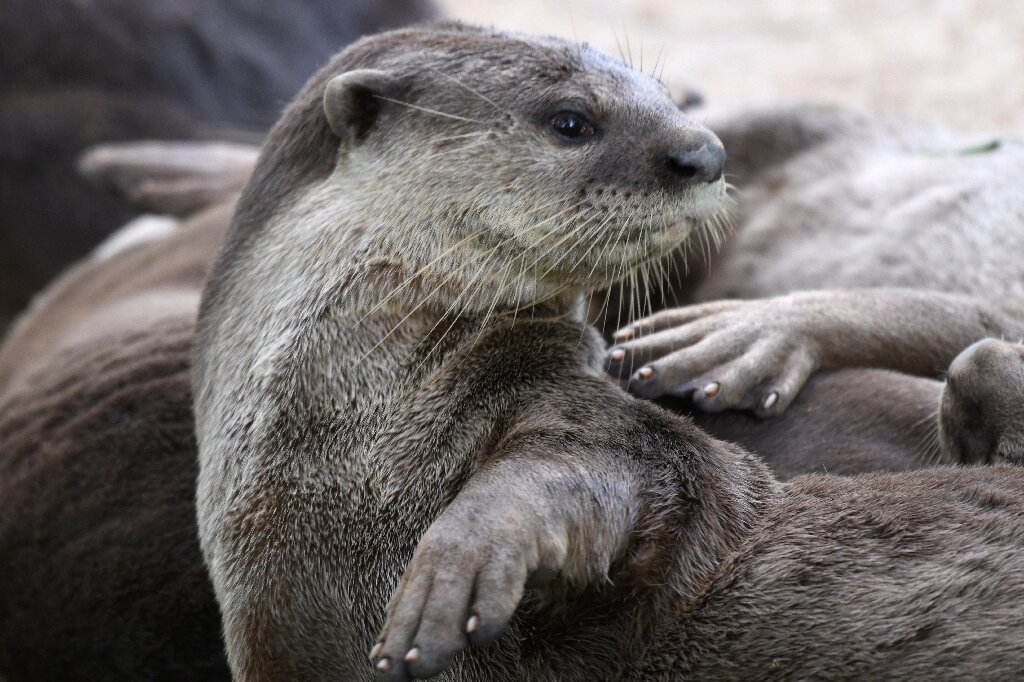otter: (167, 15, 741, 680)
